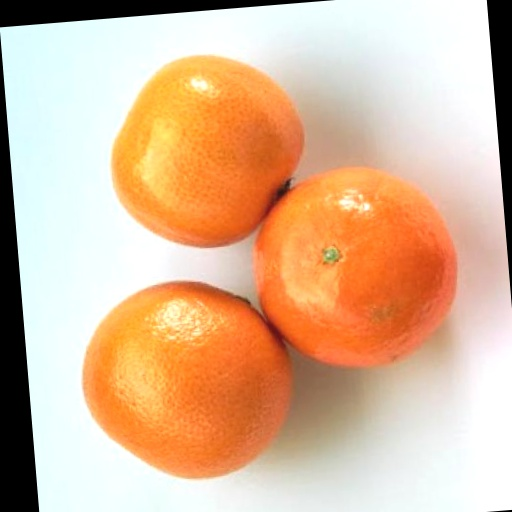fruit: (82, 282, 290, 478), (254, 168, 456, 366), (111, 55, 303, 246)
